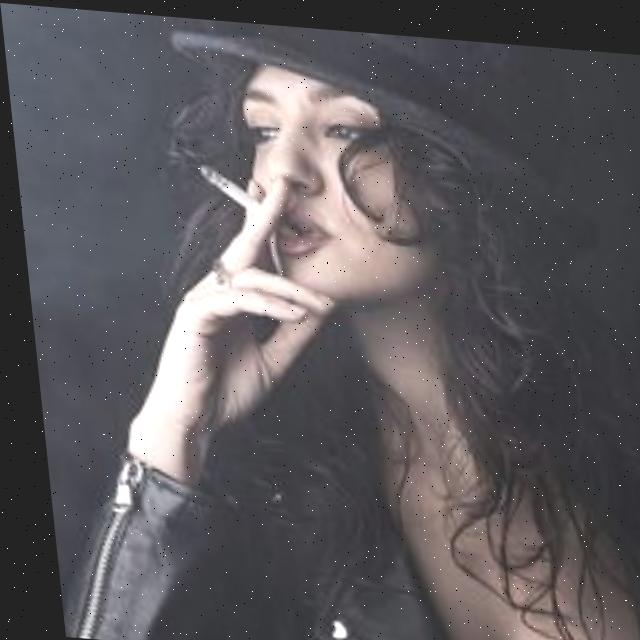cigarette: (196, 159, 300, 239)
